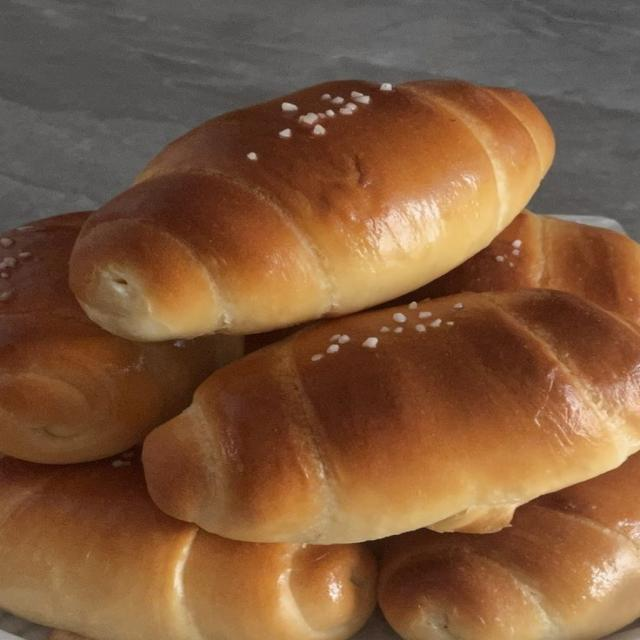bread: (143, 290, 639, 543), (71, 81, 553, 340), (0, 455, 375, 639), (0, 212, 240, 463), (380, 454, 639, 639), (380, 211, 639, 323), (394, 211, 639, 323), (47, 630, 87, 639)
